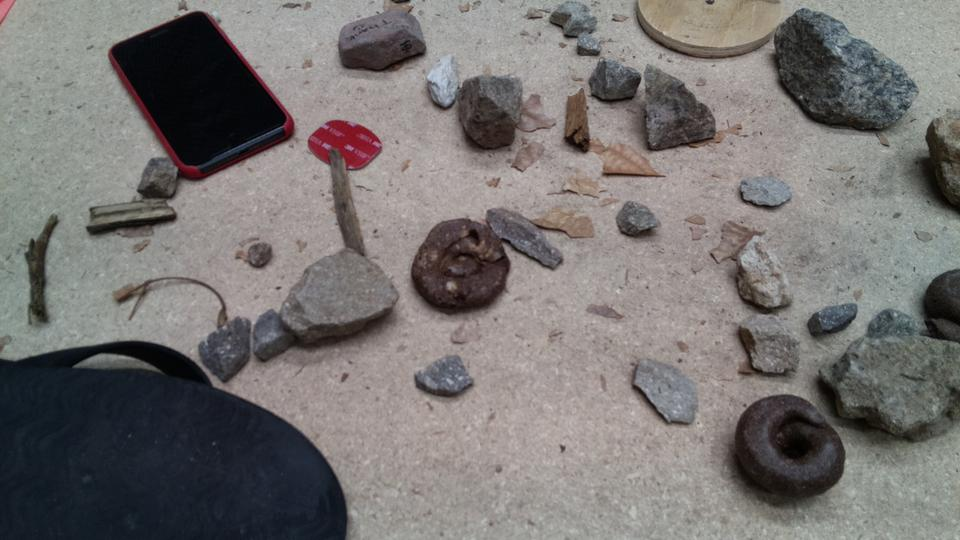poop: (732, 389, 848, 503), (410, 217, 513, 316), (921, 263, 960, 341)
